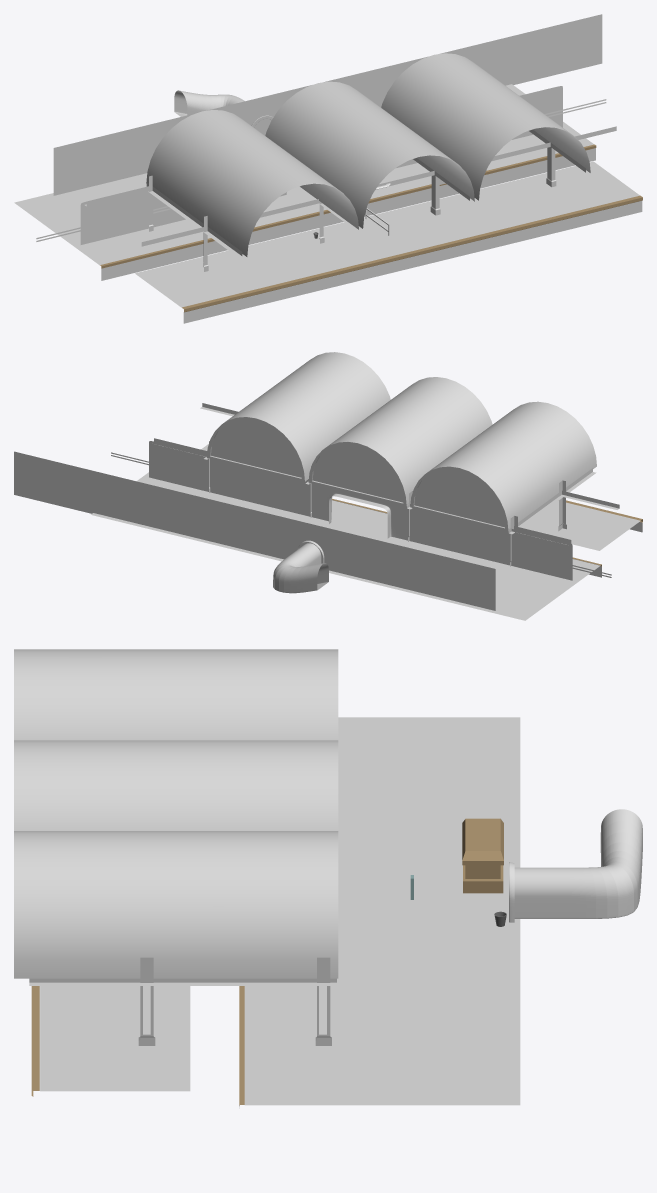
File: train_station_EXPORT.fbx
3 renders of one model, top to bottom at view 1: azimuth 30°, elevation 25°; view 2: azimuth 150°, elevation 25°; view 3: azimuth 270°, elevation 25°, orthographic. The views are drawn at different scales.
Parts seen in each view (by area): view 1: Cube.001, Cube.002, Cylinder.004, Cylinder, Cylinder.001, Cube.018, Cube.019, Cube, Cube.015, Passage, Cube.017, Cube.012 (+1 smaller); view 2: Cube, Cube.018, Cylinder.004, Cylinder.001, Cylinder, Cube.002, Cube.019, Cylinder.005, Cylinder.002, Cylinder.003, Cube.001, Passage (+4 smaller); view 3: Cube.002, Cylinder.001, Cylinder.004, Cylinder, Cube.001, Passage, Booth, Cube.014, Cube.007, Cube.008.
Part boxes in pixels (<box>): Cube.001: <box>135,161,642,323</box>; Cube.002: <box>14,84,596,280</box>; Cylinder.004: <box>146,110,358,256</box>; Cylinder: <box>265,81,474,228</box>; Cylinder.001: <box>381,53,590,200</box>; Cube.018: <box>287,14,602,107</box>; Cube.019: <box>53,103,237,195</box>; Cube: <box>80,86,562,244</box>; Cube.015: <box>139,126,616,246</box>; Passage: <box>174,90,273,127</box>; Cube.017: <box>238,91,286,135</box>; Cube.012: <box>143,182,242,257</box>; Cube: <box>149,441,572,580</box>; Cube.018: <box>14,451,290,559</box>; Cylinder.004: <box>426,401,596,530</box>; Cylinder.001: <box>223,352,390,481</box>; Cylinder: <box>324,377,492,505</box>; Cube.002: <box>91,472,601,620</box>; Cube.019: <box>334,529,495,610</box>; Cylinder.005: <box>410,466,508,530</box>; Cylinder.002: <box>206,417,304,481</box>; Cylinder.003: <box>308,442,406,506</box>; Cube.001: <box>201,444,642,550</box>; Passage: <box>273,540,328,593</box>; Cube.002: <box>239,717,520,1108</box>; Cylinder.001: <box>14,831,338,978</box>; Cylinder.004: <box>14,649,338,740</box>; Cylinder: <box>14,740,338,830</box>; Cube.001: <box>31,986,190,1096</box>; Passage: <box>509,809,642,922</box>; Booth: <box>462,818,503,893</box>; Cube.014: <box>29,978,336,985</box>; Cube.007: <box>138,957,155,1045</box>; Cube.008: <box>315,957,331,1045</box>.
Bounding box in the file's own units: 8913 × 1575 × 4848.
